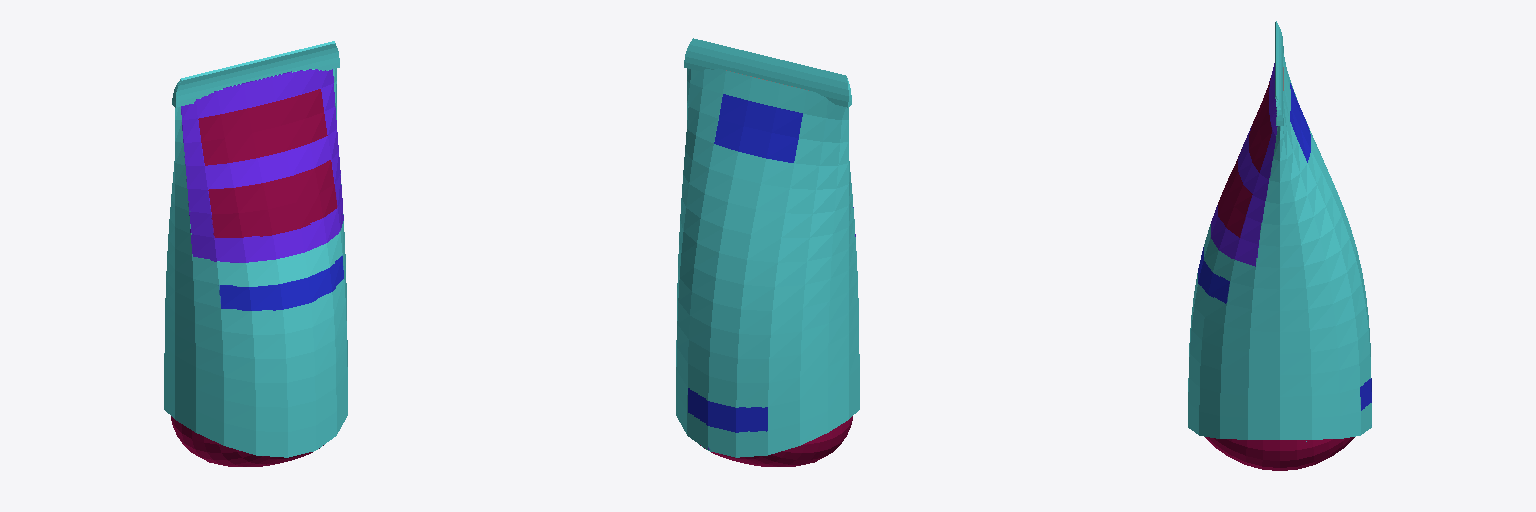
3 views of the same model, side by side, from view 1: azimuth 30°, elevation 25°; view 2: azimuth 150°, elevation 25°; view 3: azimuth 270°, elevation 25° (orthographic).
Parts seen in each view (by area): view 1: Box001; view 2: Box001; view 3: Box001.
Part boxes in pixels (left/top/right/bottom): Box001: left=164, top=41, right=347, bottom=466; Box001: left=676, top=38, right=859, bottom=466; Box001: left=1188, top=21, right=1371, bottom=470.
Size of the model in its own units: 70.14 by 161 by 67.81.
Materials: 1 (1 with a texture image).